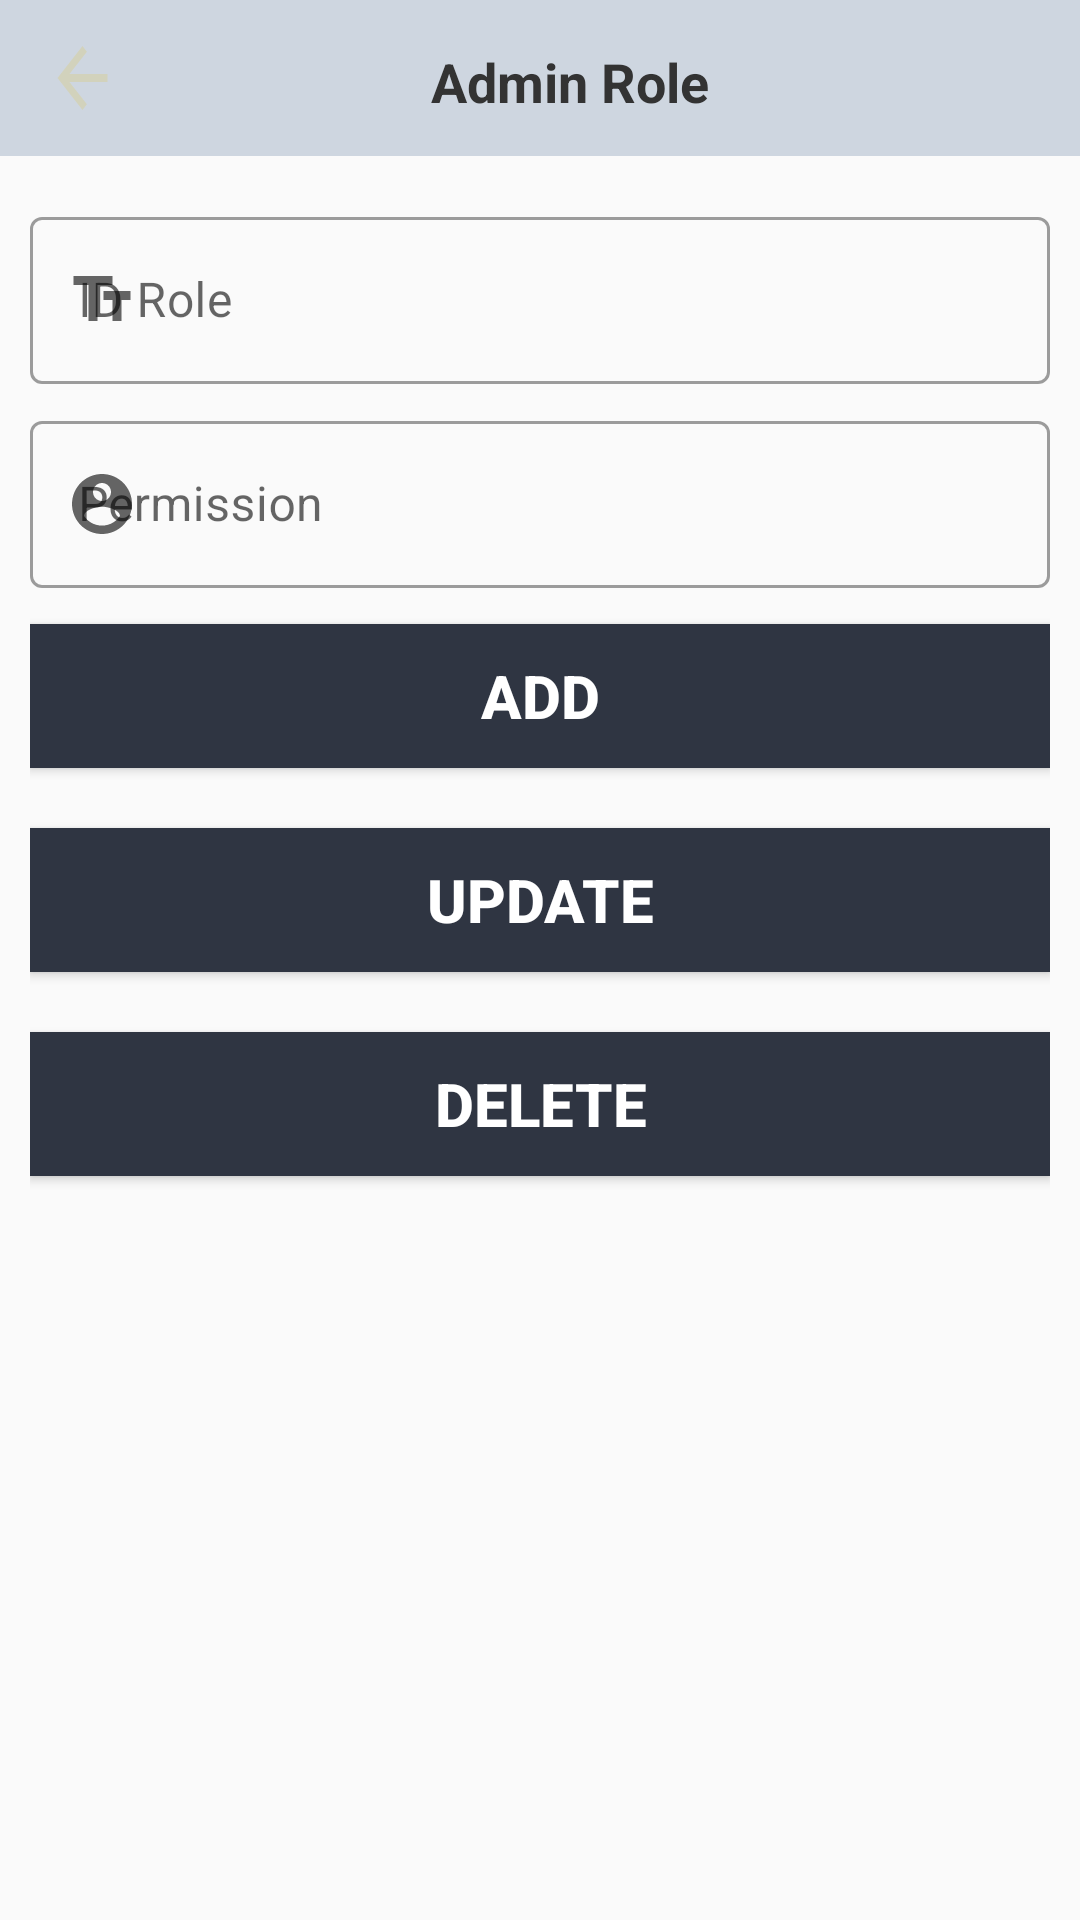

Where icons sit on this 1080*1920 app screen, as (x1, y1, x2, y2):
arrow back: (58, 46, 107, 110)
